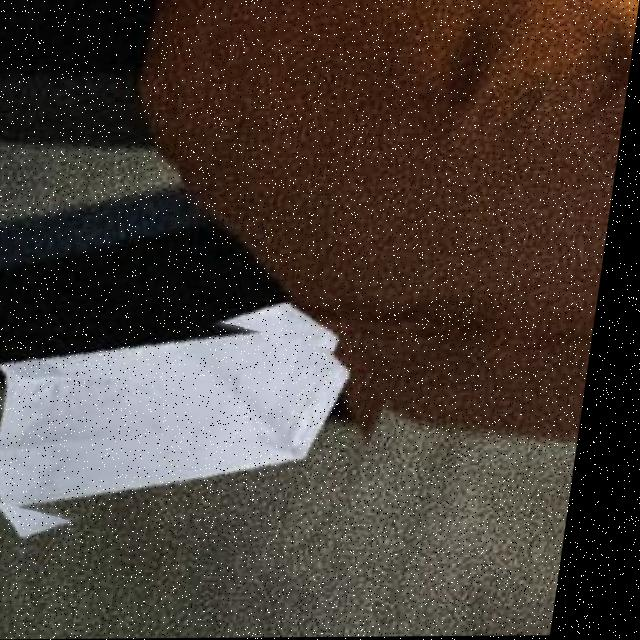litter: (0, 302, 405, 570)
